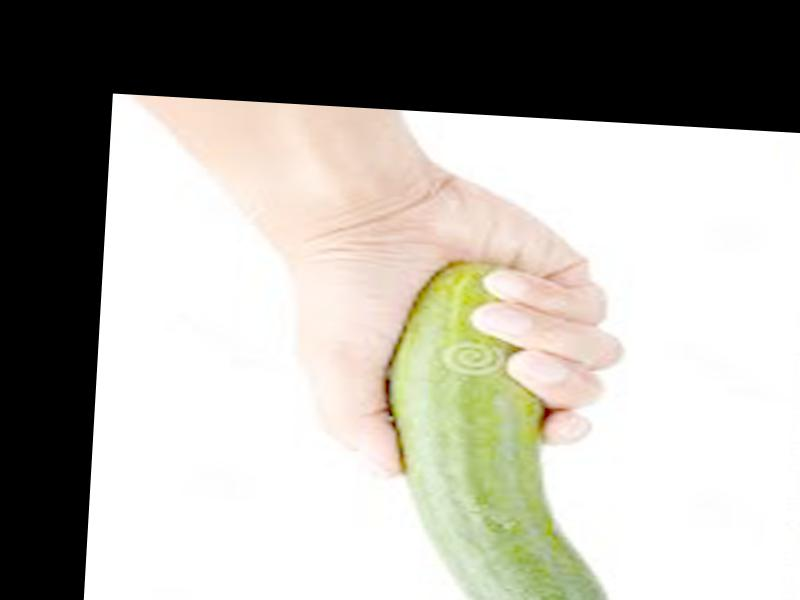Cucumber: (381, 258, 630, 600)
